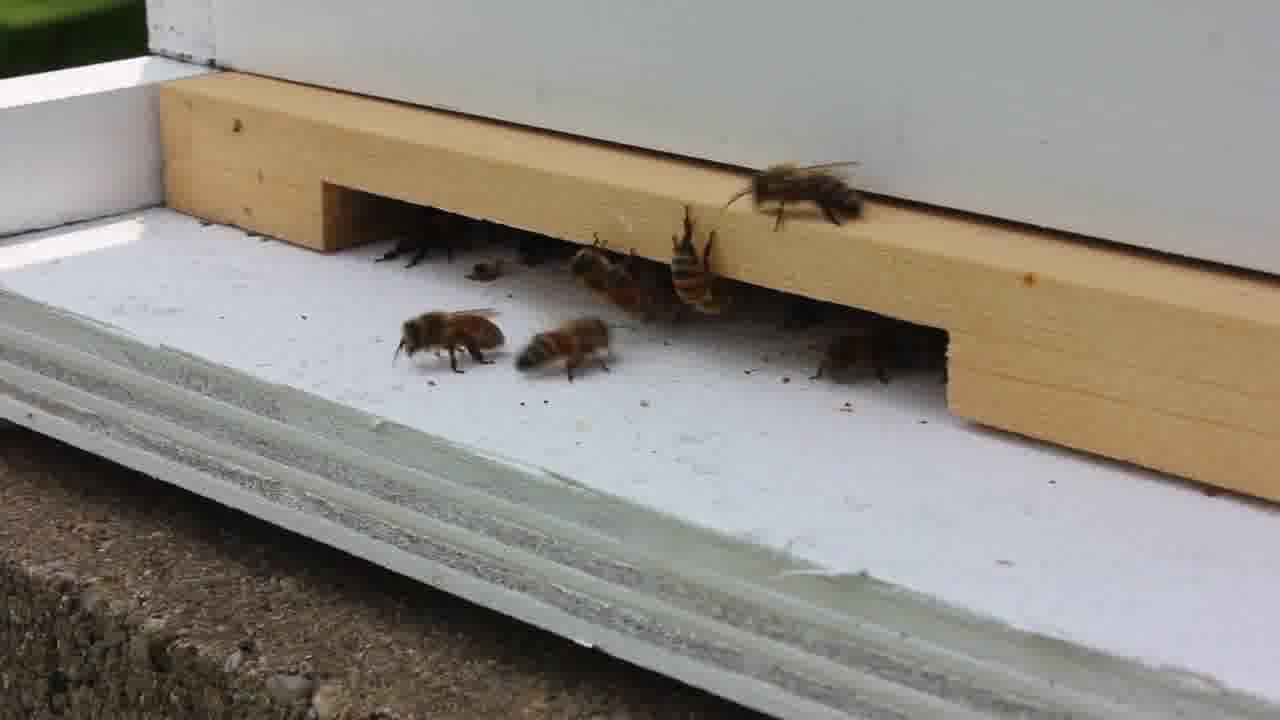pollen: (518, 317, 628, 380)
